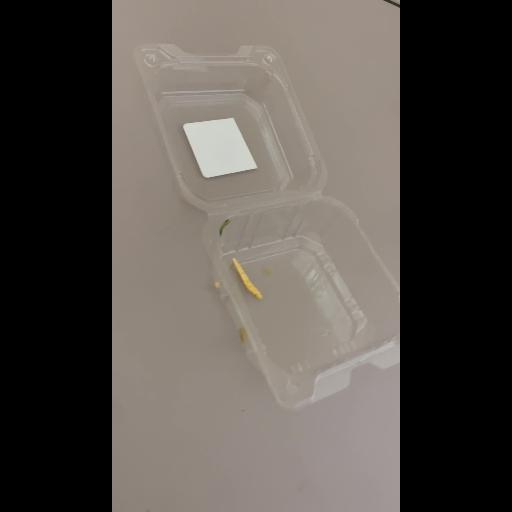small_plastic_container: (132, 38, 400, 410)
